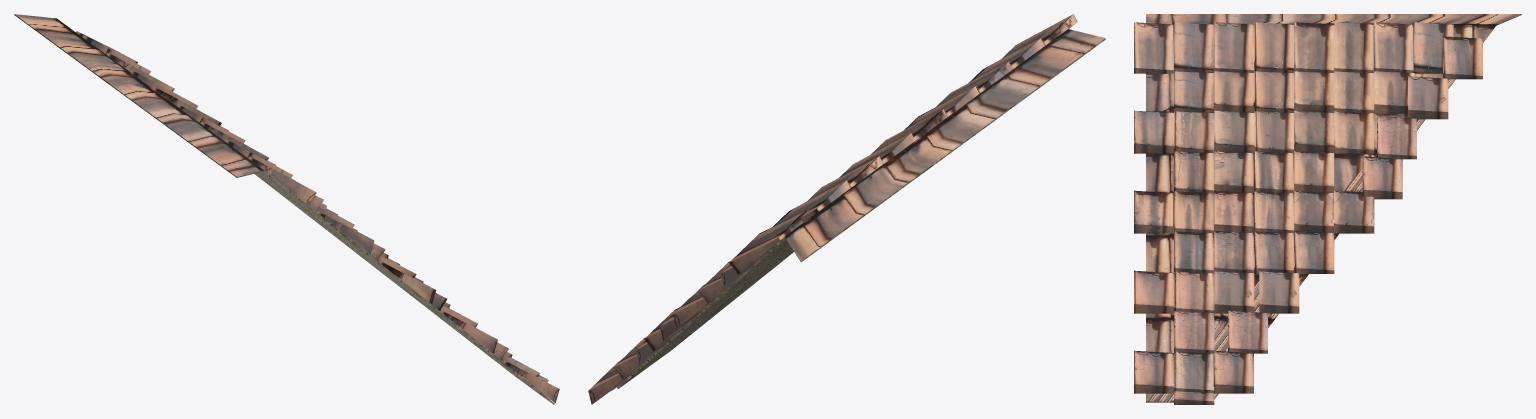
Rendered from ShingleC.fbx.
3 views of the same model, side by side, from view 1: azimuth 30°, elevation 25°; view 2: azimuth 150°, elevation 25°; view 3: azimuth 270°, elevation 25° (orthographic). The views are drawn at different scales.
Visible parts, largest first — view 1: ShingleC; view 2: ShingleC; view 3: ShingleC.
Boxes of the visible parts, bbox=[...] form: ShingleC: bbox=[14, 14, 559, 404]; ShingleC: bbox=[588, 14, 1105, 404]; ShingleC: bbox=[1134, 14, 1521, 404].
Size of the model in its own units: 517 by 469 by 626.
